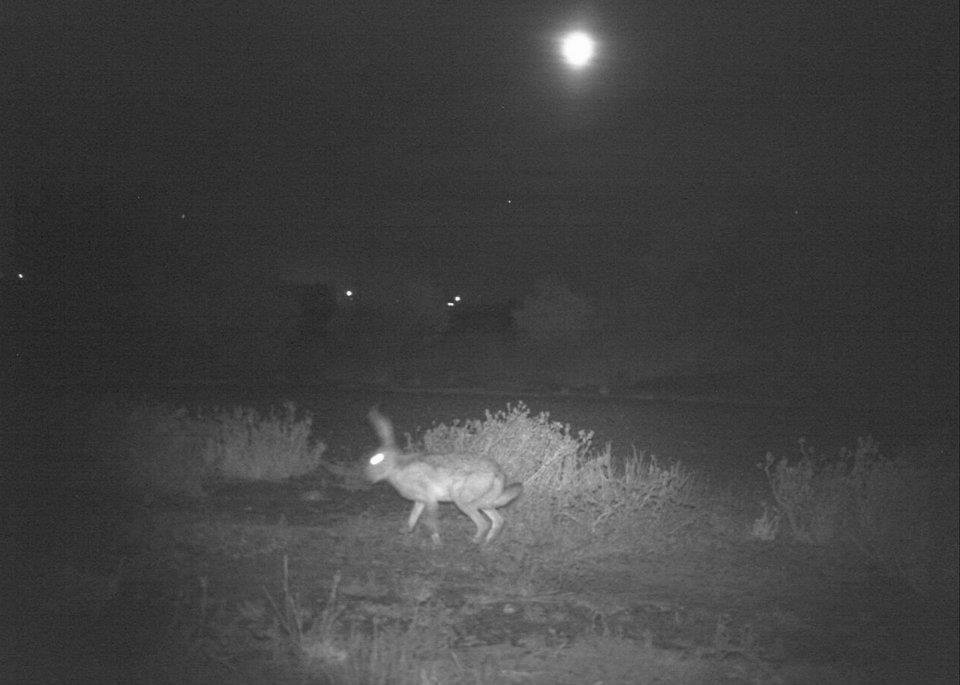rabbit: (326, 362, 584, 569)
